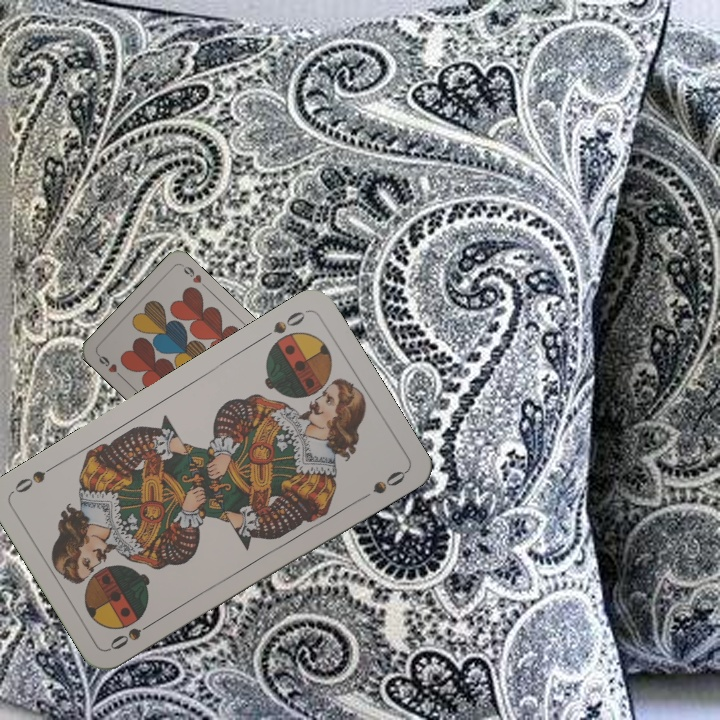H9: (93, 350, 126, 382)
SO: (105, 615, 160, 653), (256, 306, 310, 343)
